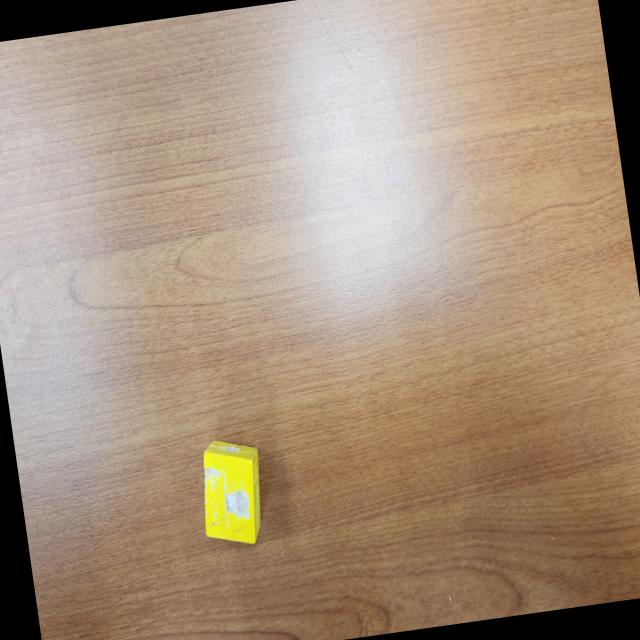broken: (192, 434, 272, 551)
